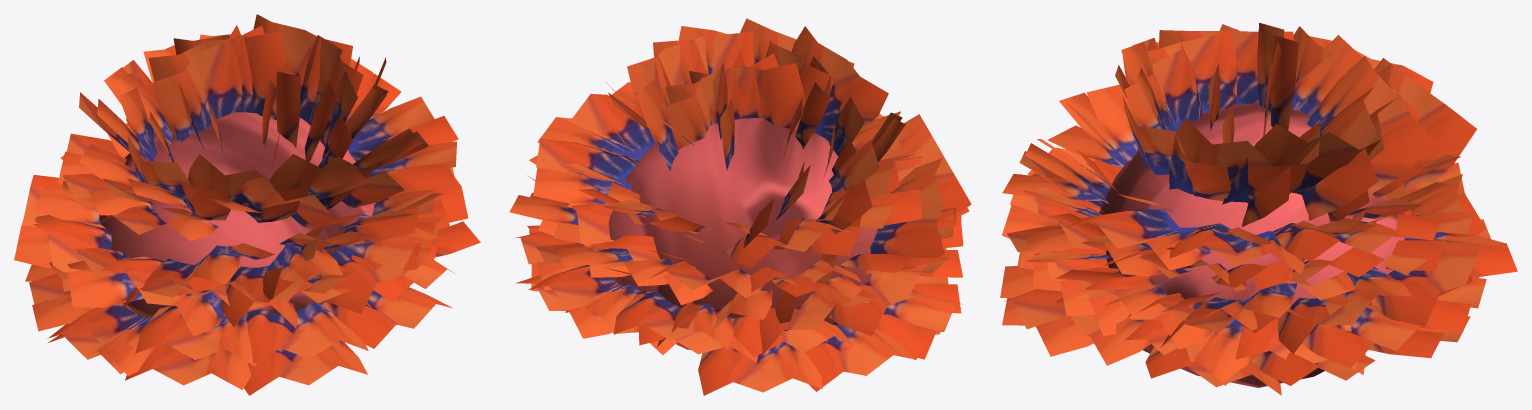
Rendered from softcoral-06.glb.
The picture shows the model from 3 angles, left to right: view 1: azimuth 30°, elevation 25°; view 2: azimuth 150°, elevation 25°; view 3: azimuth 270°, elevation 25°; orthographic projection. The views are drawn at different scales.
Parts seen in each view (by area): view 1: coral14; view 2: coral14; view 3: coral14.
Boxes of the visible parts, x1,y1,x2,y2 form: coral14: (14,14,480,395); coral14: (509,18,971,395); coral14: (1000,23,1517,395).
Bounding box in the file's own units: 1.8 × 1.21 × 1.76.
1 material, 1 textured.
